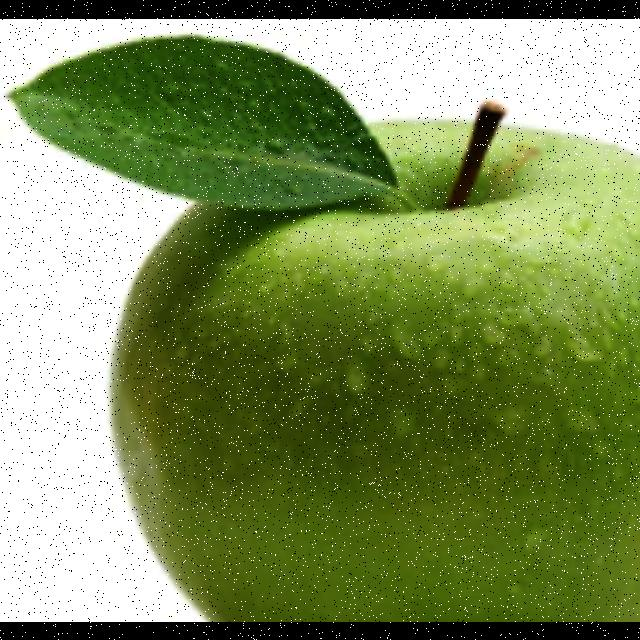Apel Segar: (95, 100, 640, 622)
